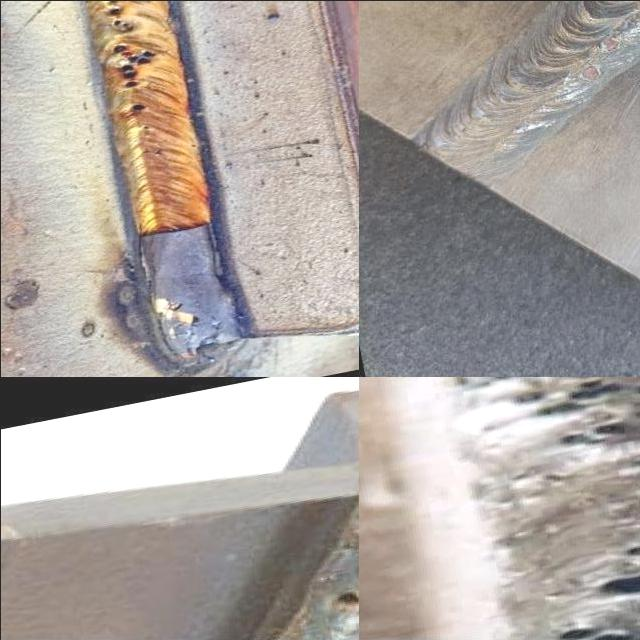defect: (452, 377, 640, 454), (107, 41, 160, 91), (545, 623, 638, 640), (507, 466, 567, 489), (104, 0, 134, 32), (330, 585, 358, 612), (591, 35, 622, 57), (575, 61, 601, 84), (509, 122, 530, 136), (127, 102, 151, 114), (138, 147, 162, 157), (136, 123, 151, 130)
